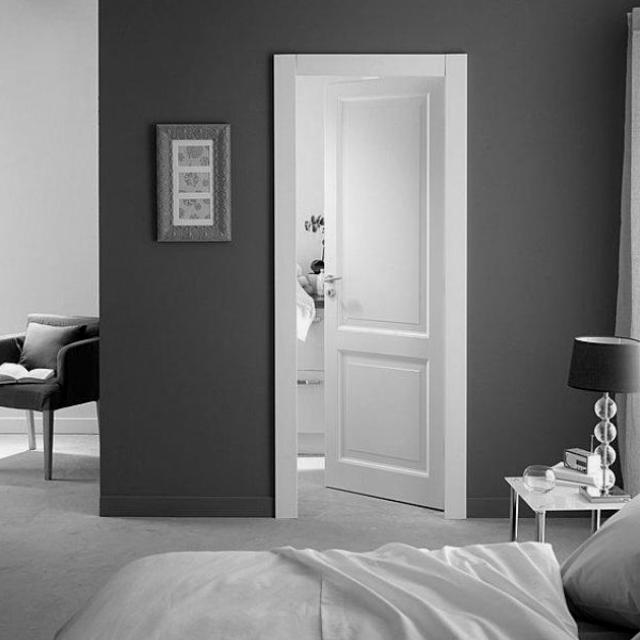door: (322, 75, 445, 509)
